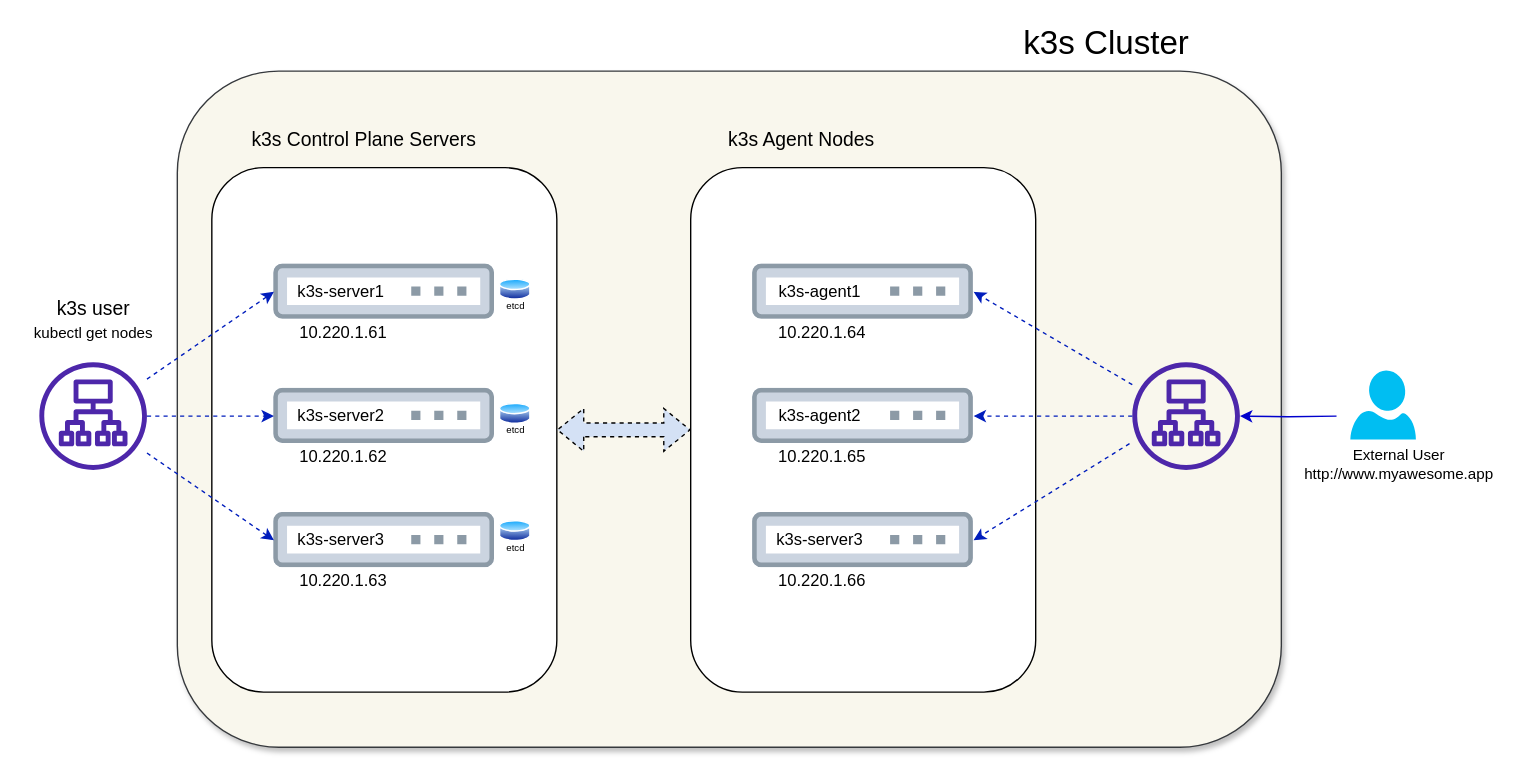
Image size: 1525x781. Some labels were removed from this diagram. Each missing label, with the centre of its shape:
"MetalLB 10.220.1.130-139" goes at point 1185,415.
"Nginx Load Balancer 10.220.1.18" goes at point 92,415.
